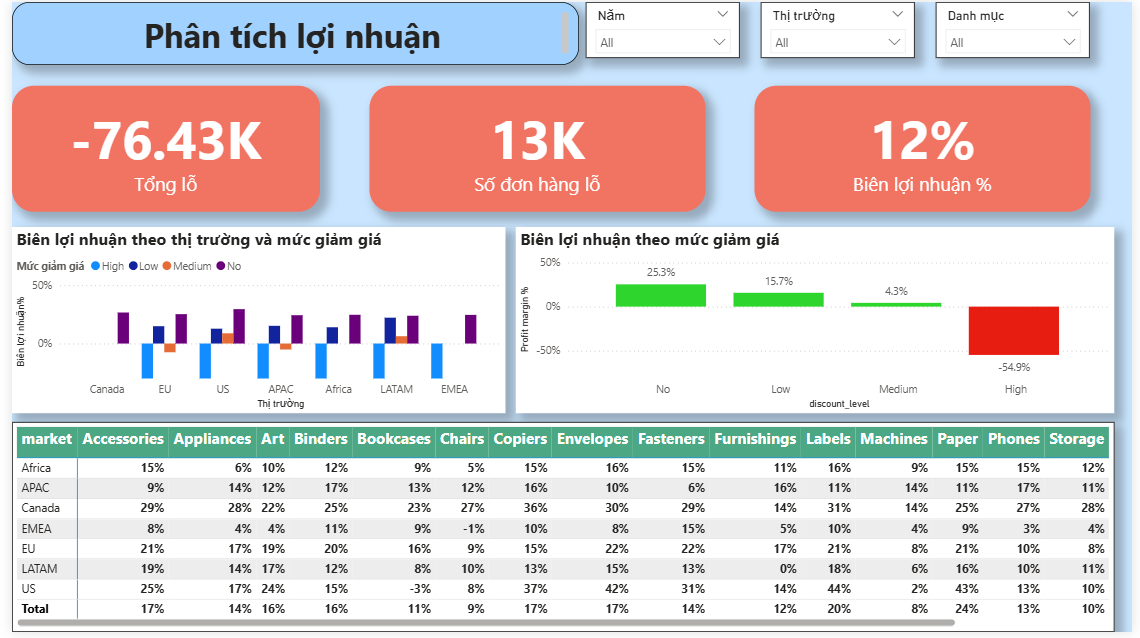

This screenshot's page, from the dashboard's own definition file:
{"tool":"powerbi","page":{"name":"Lợi Nhuận","canvas":[1280,720],"ordinal":1},"visuals":[{"type":"textbox","box":[0,0,648,72],"z":0},{"type":"card","fields":{"Values":["_measure.Total loss"]},"box":[0,96,352,144],"z":1000},{"type":"card","fields":{"Values":["_measure.Loss lines"]},"box":[408,96,384,144],"z":2000},{"type":"card","fields":{"Values":["_measure.Profit margin %"]},"box":[848,96,384,144],"z":3000},{"type":"clusteredColumnChart","title":"Biên lợi nhuận theo thị trường và mức giảm giá","fields":{"Category":["orders.market"],"Series":["orders.discount_level"],"Y":["_measure.Profit margin %"]},"box":[0,256.6,563.7,213.1],"z":4000},{"type":"clusteredColumnChart","title":"Biên lợi nhuận theo mức giảm giá","fields":{"Category":["orders.discount_level"],"Y":["_measure.Profit margin %"]},"box":[576.3,256.6,684.3,213.1],"z":5000},{"type":"pivotTable","fields":{"Values":["_measure.Profit margin %"],"Rows":["orders.market"],"Columns":["orders.sub_category"]},"box":[0,480,1280,208],"z":6000},{"type":"slicer","fields":{"Values":["DimDate.Year"]},"box":[656,0,176,64],"z":7000},{"type":"slicer","fields":{"Values":["orders.market"]},"box":[856,0,176,64],"z":8000},{"type":"slicer","fields":{"Values":["orders.category"]},"box":[1056,0,176,64],"z":9000}]}

Visuals, with their boxes in screenshot pixels (x1, y1, x2, y2), scaled from the page's 1280x720 canvas onto the 1140x638 screenshot:
textbox: 0:0:577:64
card - _measure.Total loss: 0:85:314:213
card - _measure.Loss lines: 363:85:705:213
card - _measure.Profit margin %: 755:85:1097:213
"Biên lợi nhuận theo thị trường và mức giảm giá" clusteredColumnChart: 0:227:502:416
"Biên lợi nhuận theo mức giảm giá" clusteredColumnChart: 513:227:1123:416
pivotTable - _measure.Profit margin % x orders.market: 0:425:1139:610
slicer - DimDate.Year: 584:0:741:57
slicer - orders.market: 762:0:919:57
slicer - orders.category: 940:0:1097:57
